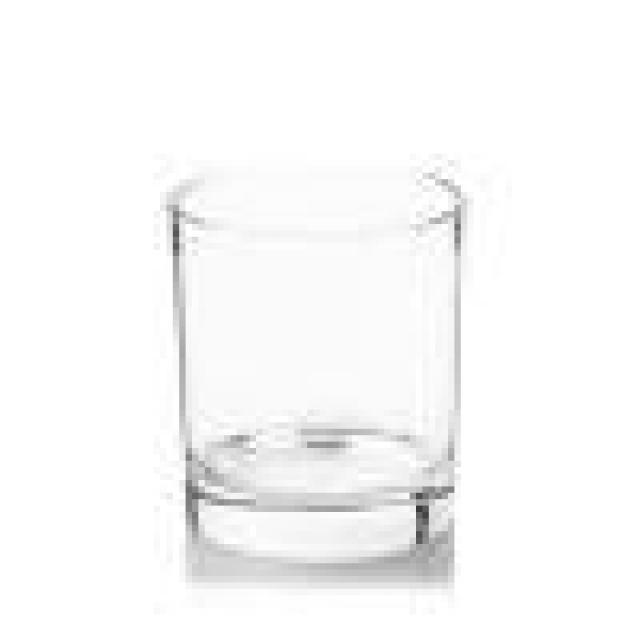non-organic waste: (157, 157, 477, 566)
